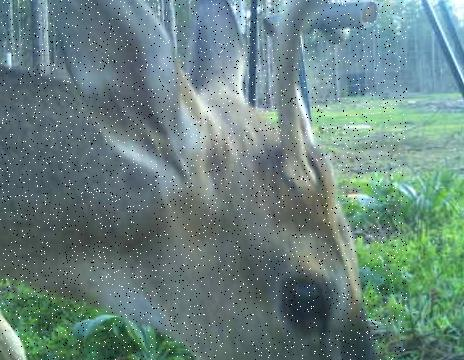Deer: (0, 0, 407, 360)
